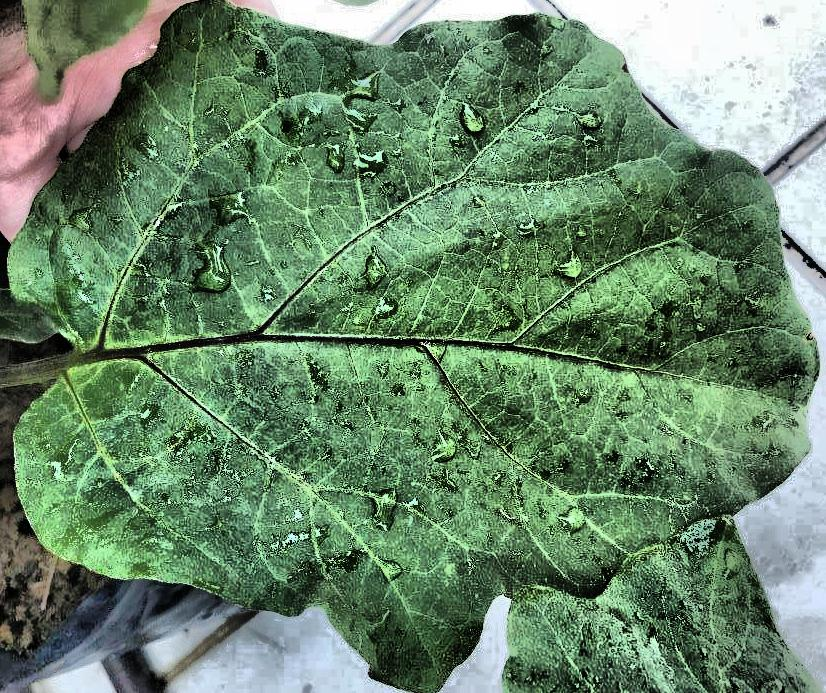HEALTHY: (0, 1, 826, 693)
